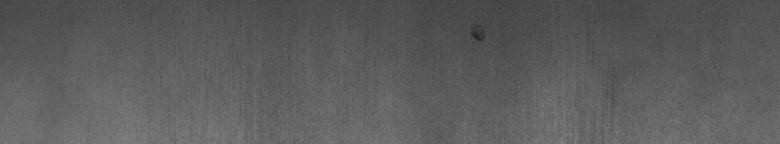fi: (468, 28, 488, 47)
